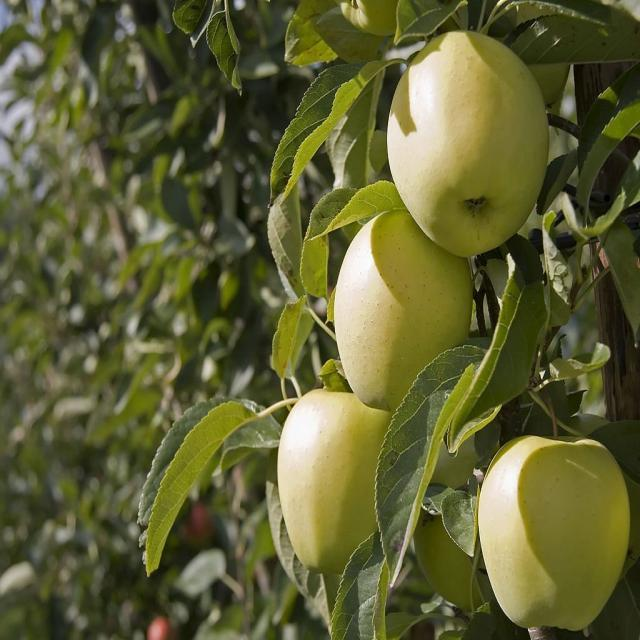Green Apple: (391, 38, 550, 251), (481, 432, 638, 637), (281, 372, 410, 568), (336, 206, 460, 391), (419, 453, 515, 603)
